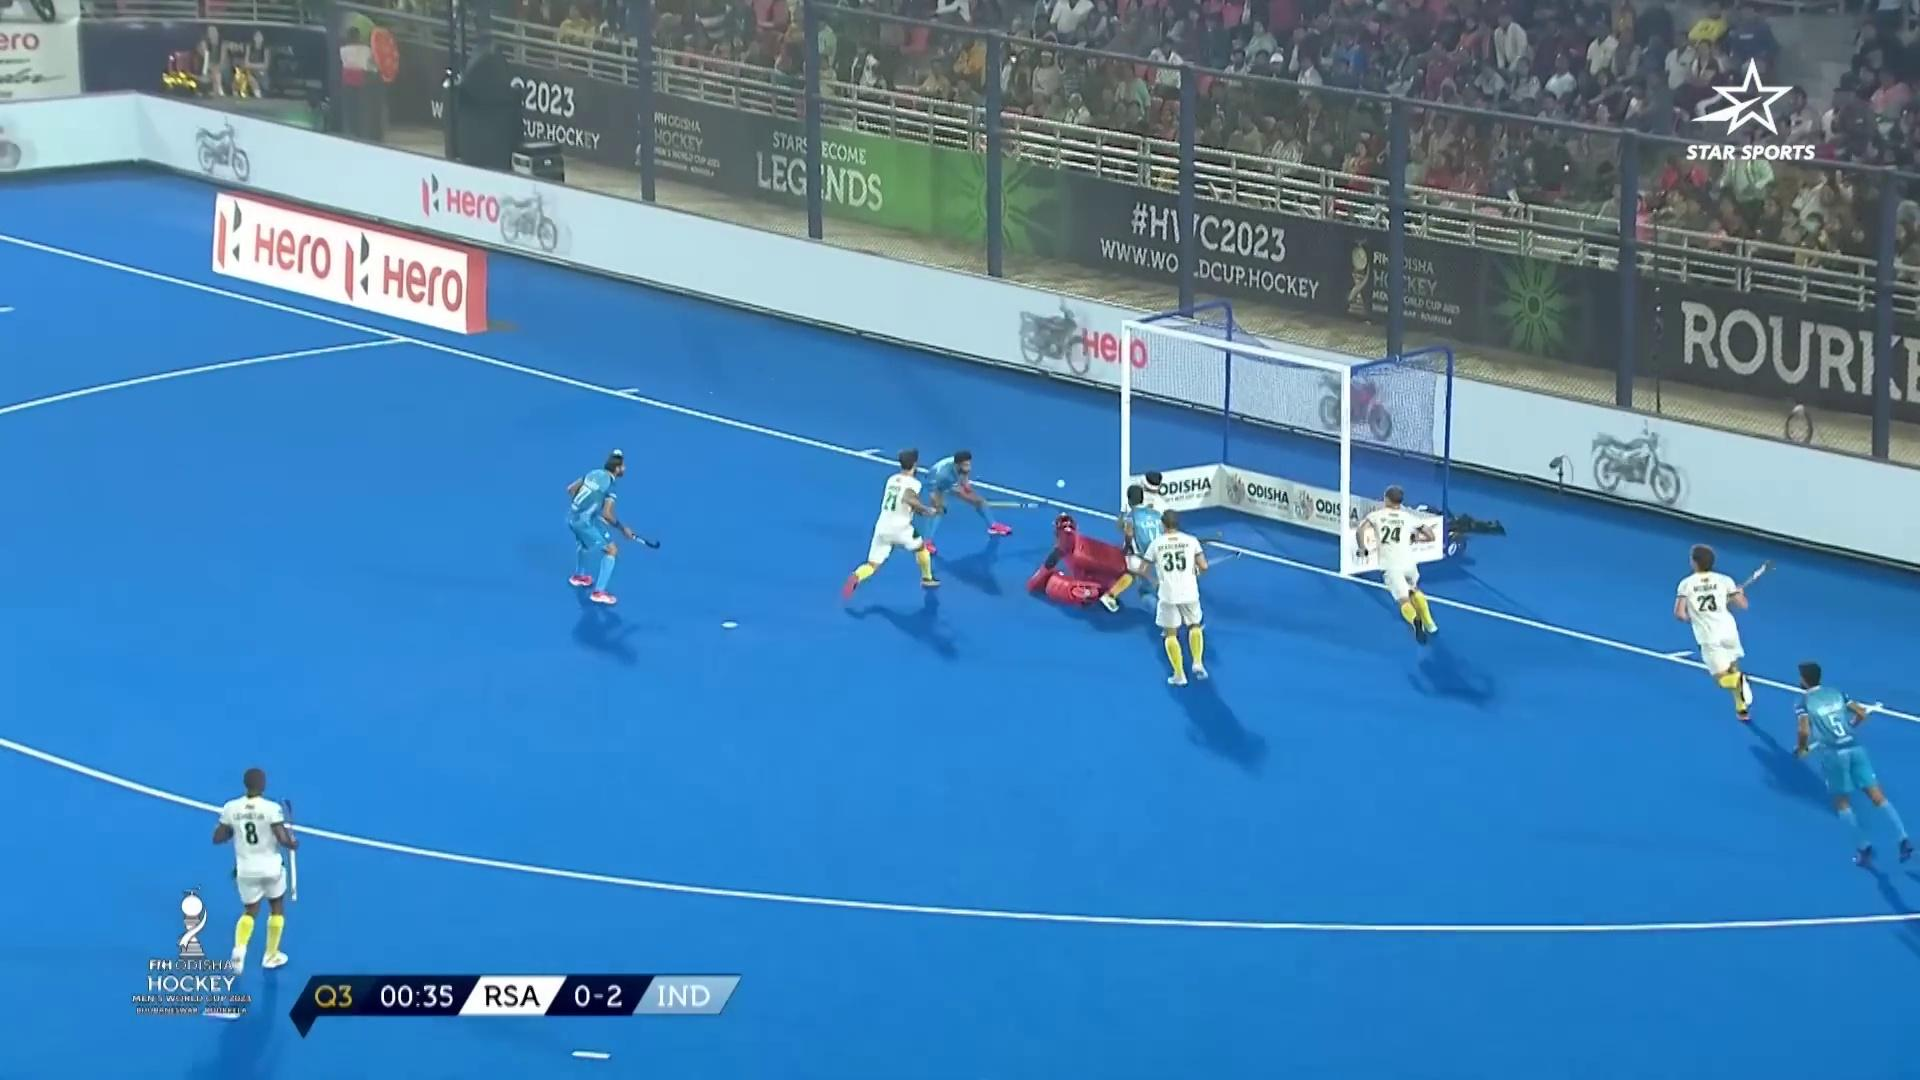ball: (1055, 473, 1077, 495)
